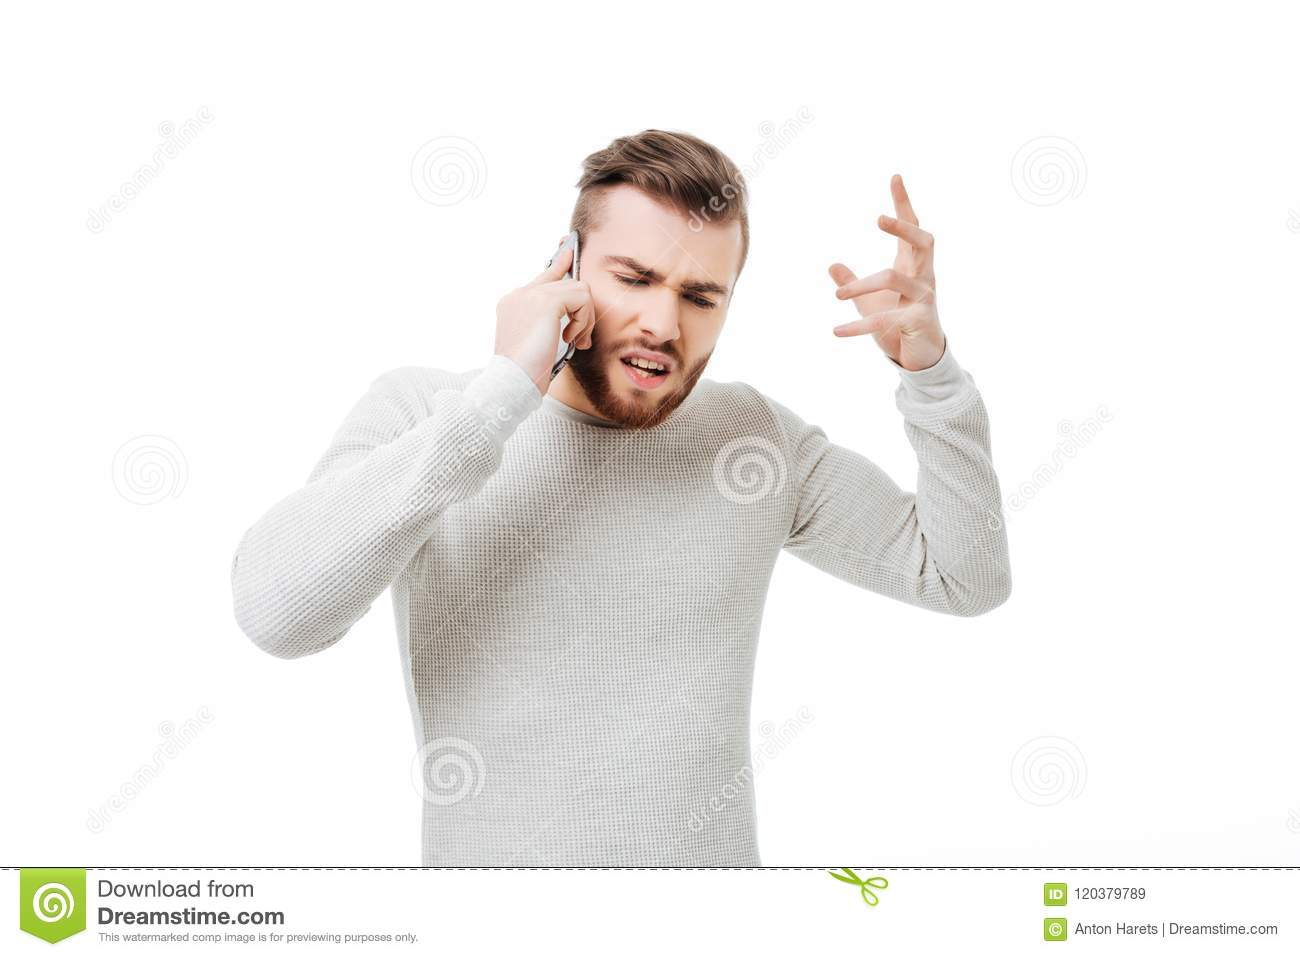phone: (535, 233, 584, 390)
talk: (492, 224, 731, 431)
